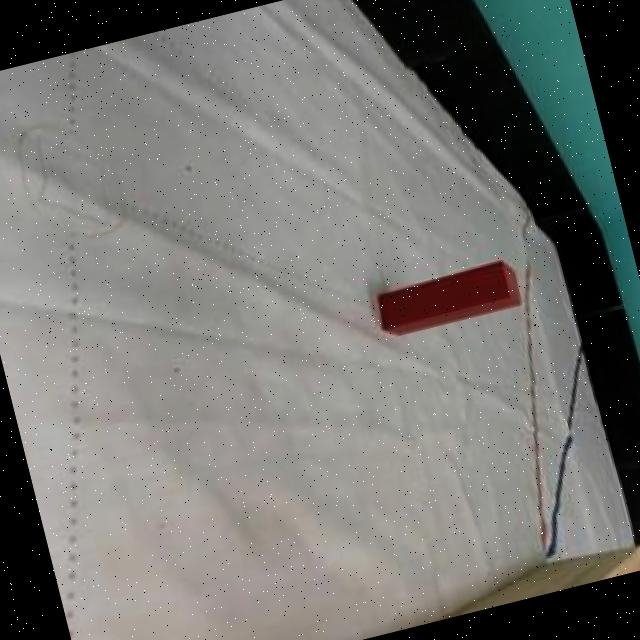redbox: (374, 258, 524, 336)
